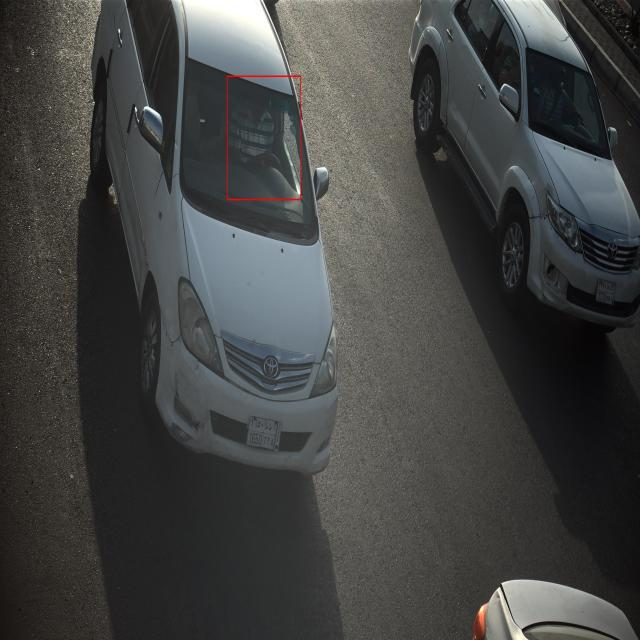windshield: (178, 48, 324, 251), (519, 41, 614, 165)
